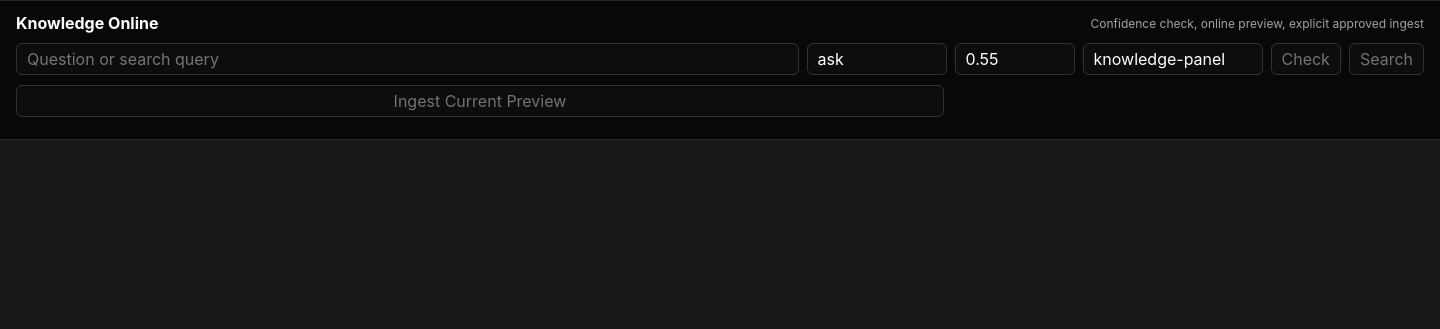
it: KnowledgeOnlinePanel › searches, displays sources, and ingests preview
The image size is (1440, 329).
Type "sprite metadata" into the field with placeholder "Question or search query".
click(407, 59); type("sprite metadata")  # box [16,43,798,75]
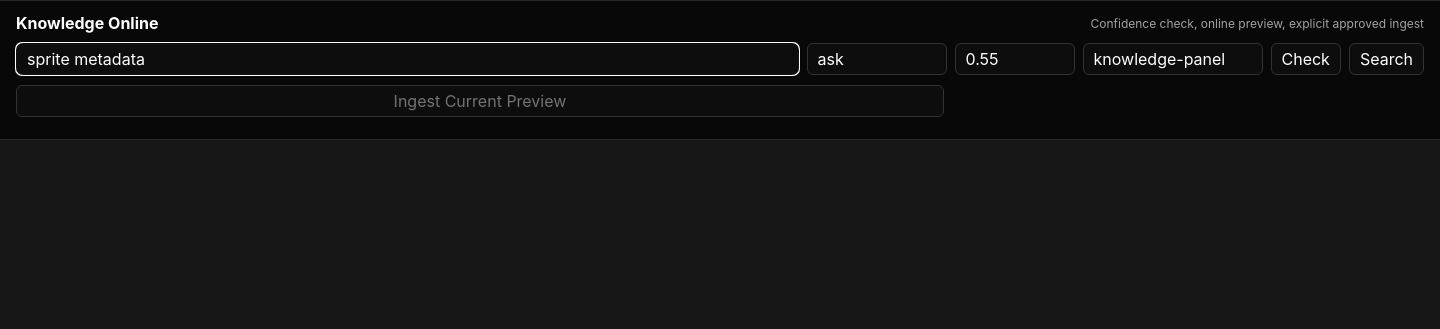
Click the button "Search".
click(1386, 59)  # box [1349,43,1424,75]
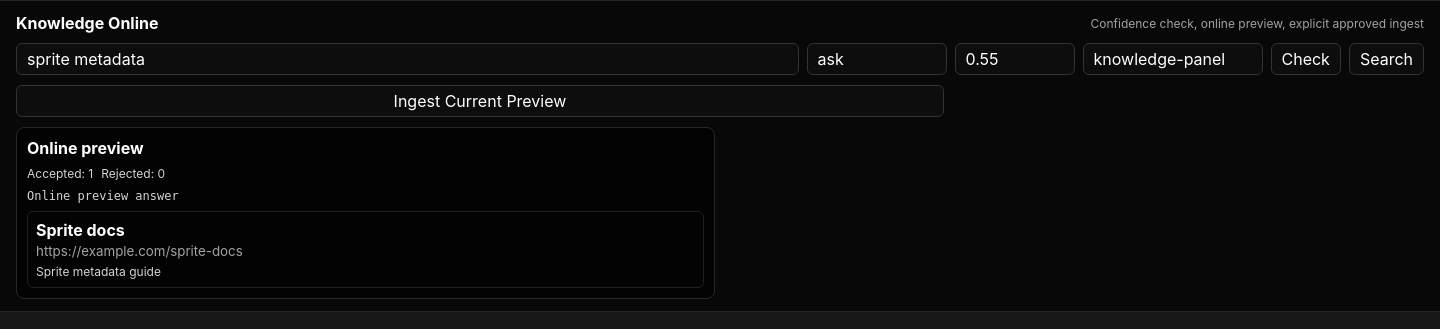
Now the text "Online preview answer" is shown, box [27,189,179,203]
Now the text "Sprite docs" is shown, box [36,220,125,240]
Click the button "Ingest Current Preview".
click(480, 101)  # box [16,85,944,117]
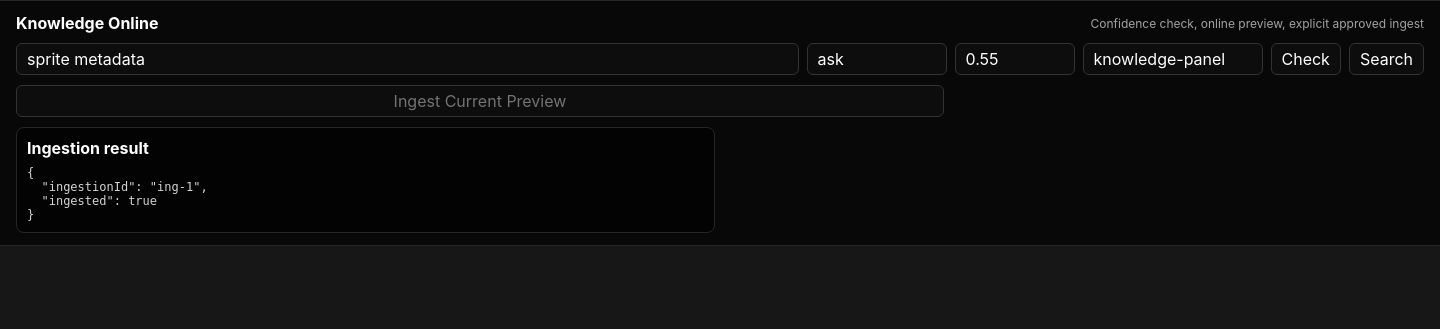
Now the heading "Ingestion result" is shown, box [27,138,149,158]
